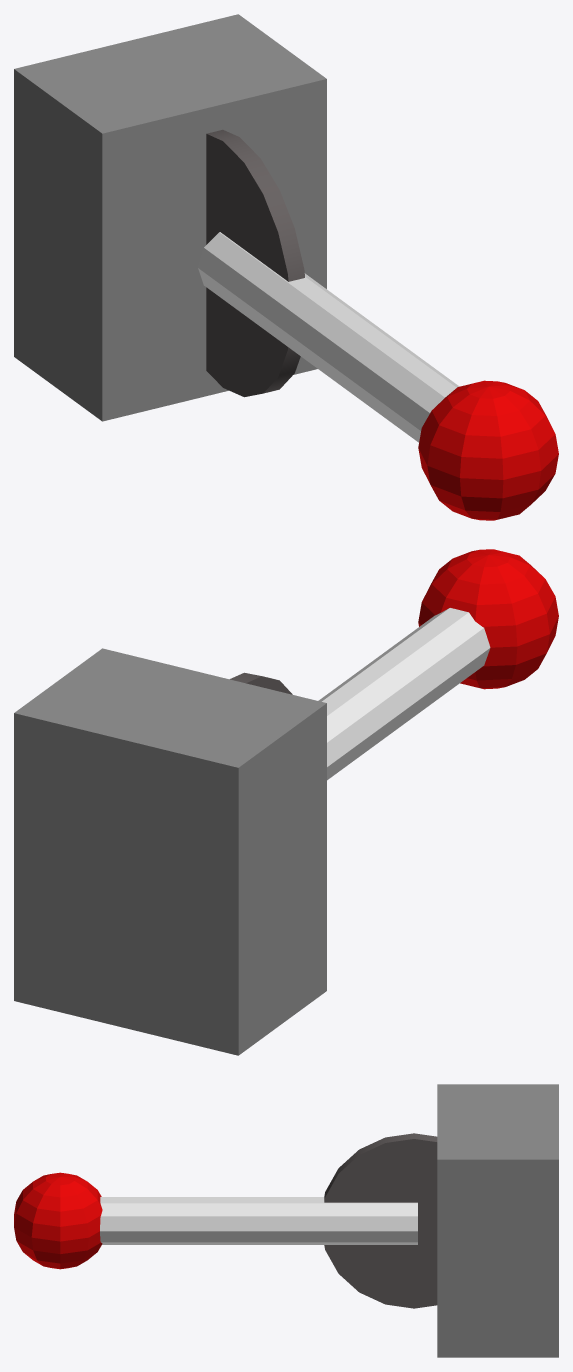
File: lever.fbx
The picture shows the model from 3 angles, top to bottom: view 1: azimuth 30°, elevation 25°; view 2: azimuth 150°, elevation 25°; view 3: azimuth 270°, elevation 25°; orthographic projection. The views are drawn at different scales.
Parts seen in each view (by area): view 1: pCube1, pCylinder1, pasted__pCylinder1, pSphere1; view 2: pCube1, pCylinder1, pSphere1; view 3: pCube1, pCylinder1, pasted__pCylinder1, pSphere1.
Part boxes in pixels (box(x1,y1,x2,y2)): pCube1: box(14, 14, 326, 421); pCylinder1: box(198, 232, 459, 442); pasted__pCylinder1: box(206, 129, 304, 397); pSphere1: box(418, 380, 558, 520); pCube1: box(14, 648, 326, 1055); pCylinder1: box(318, 608, 490, 780); pSphere1: box(418, 549, 558, 689); pCube1: box(437, 1084, 558, 1357); pCylinder1: box(100, 1197, 417, 1244); pasted__pCylinder1: box(324, 1133, 437, 1308); pSphere1: box(14, 1172, 102, 1269).
Size of the model in its own units: 1.47 by 1.8 by 4.48.
